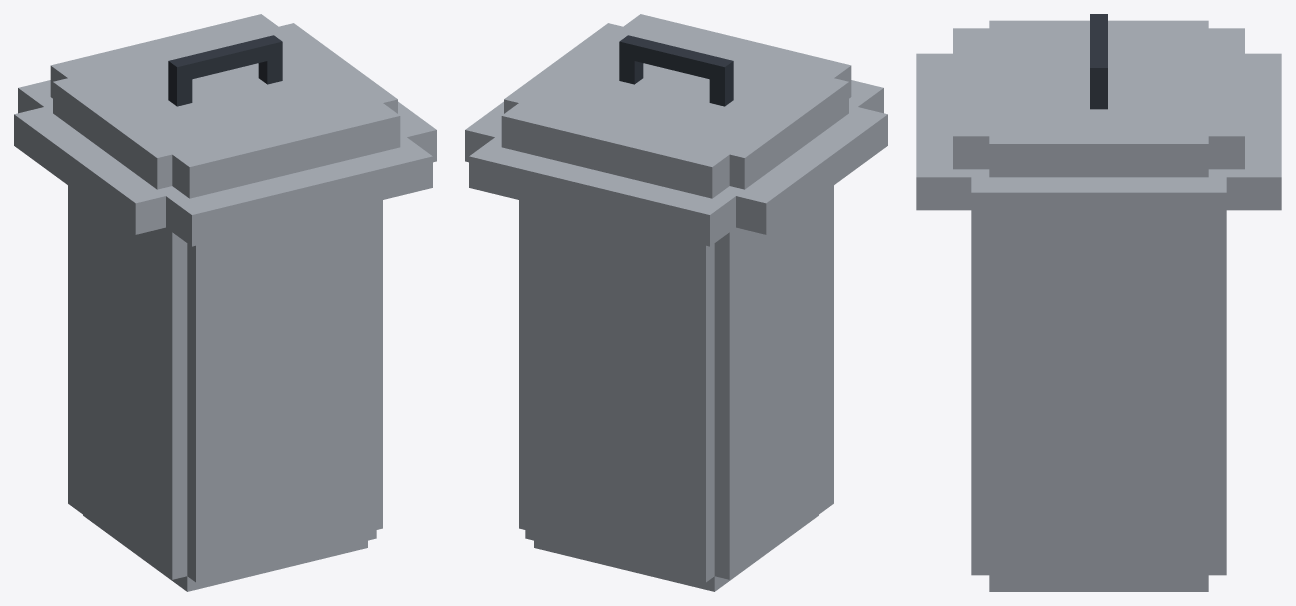
Rendered from trashcanclosed.gltf.
3 views of the same model, side by side, from view 1: azimuth 30°, elevation 25°; view 2: azimuth 150°, elevation 25°; view 3: azimuth 270°, elevation 25° (orthographic). The views are drawn at different scales.
Parts seen in each view (by area): view 1: can, lid; view 2: can, lid; view 3: can, lid.
Part boxes in pixels (x1=…): can: x1=68, y1=185, x2=382, y2=591; lid: x1=14, y1=14, x2=436, y2=246; can: x1=519, y1=185, x2=833, y2=591; lid: x1=465, y1=14, x2=887, y2=246; can: x1=971, y1=225, x2=1226, y2=591; lid: x1=916, y1=14, x2=1281, y2=225.
Size of the model in its own units: 1.25 by 1.91 by 1.25.
Materials: 1 (1 with a texture image).
